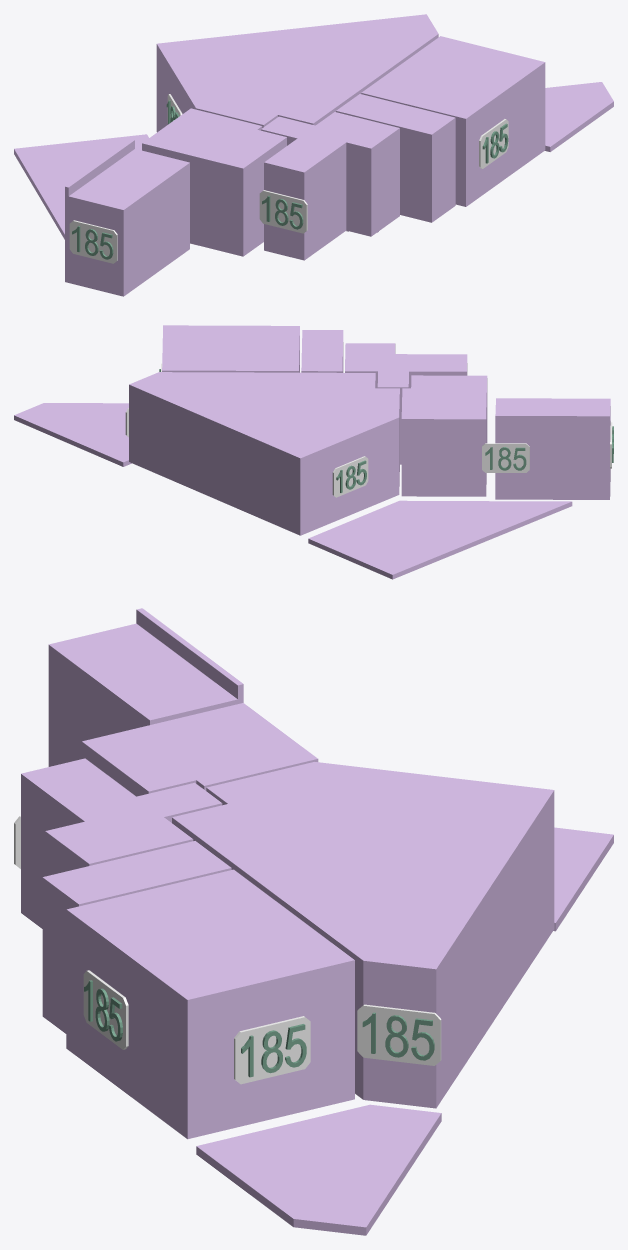
3 views of the same model, one above another, from view 1: azimuth 30°, elevation 25°; view 2: azimuth 150°, elevation 25°; view 3: azimuth 270°, elevation 25° (orthographic). The views are drawn at different scales.
Parts seen in each view (by area): view 1: g_0, g_1, g_3, g_5, g_4, g_2, g_6, g_7, g_11, g_35, g_19; view 2: g_0, g_6, g_5, g_4, g_1, g_7, g_3, g_2, g_27, g_31; view 3: g_0, g_1, g_7, g_5, g_3, g_4, g_2, g_6, g_23, g_15, g_19.
Boxes of the visible parts, box(x1,y1,x2,y2) form: g_0: box(156, 14, 438, 132); g_1: box(361, 36, 545, 206); g_3: box(261, 112, 399, 260); g_5: box(65, 139, 189, 296); g_4: box(142, 108, 286, 256); g_2: box(336, 94, 455, 222); g_6: box(14, 134, 148, 239); g_7: box(545, 82, 613, 151); g_11: box(69, 220, 117, 263); g_35: box(259, 190, 307, 233); g_19: box(479, 119, 508, 168); g_0: box(129, 372, 399, 535); g_6: box(308, 500, 572, 579); g_5: box(495, 398, 610, 499); g_4: box(401, 375, 487, 496); g_1: box(162, 325, 299, 372); g_7: box(14, 403, 131, 466); g_3: box(345, 343, 467, 464); g_2: box(301, 330, 343, 372); g_27: box(482, 443, 529, 472); g_31: box(332, 456, 368, 497); g_0: box(172, 762, 554, 1108); g_1: box(66, 869, 354, 1139); g_7: box(196, 1104, 441, 1235); g_5: box(48, 608, 243, 766); g_3: box(21, 758, 222, 928); g_4: box(81, 703, 318, 796); g_2: box(42, 841, 231, 1033); g_6: box(553, 827, 613, 931); g_23: box(357, 1004, 441, 1065); g_15: box(234, 1016, 310, 1084); g_19: box(83, 970, 128, 1049).
Size of the model in its own units: 18.01 by 2.85 by 9.74.
